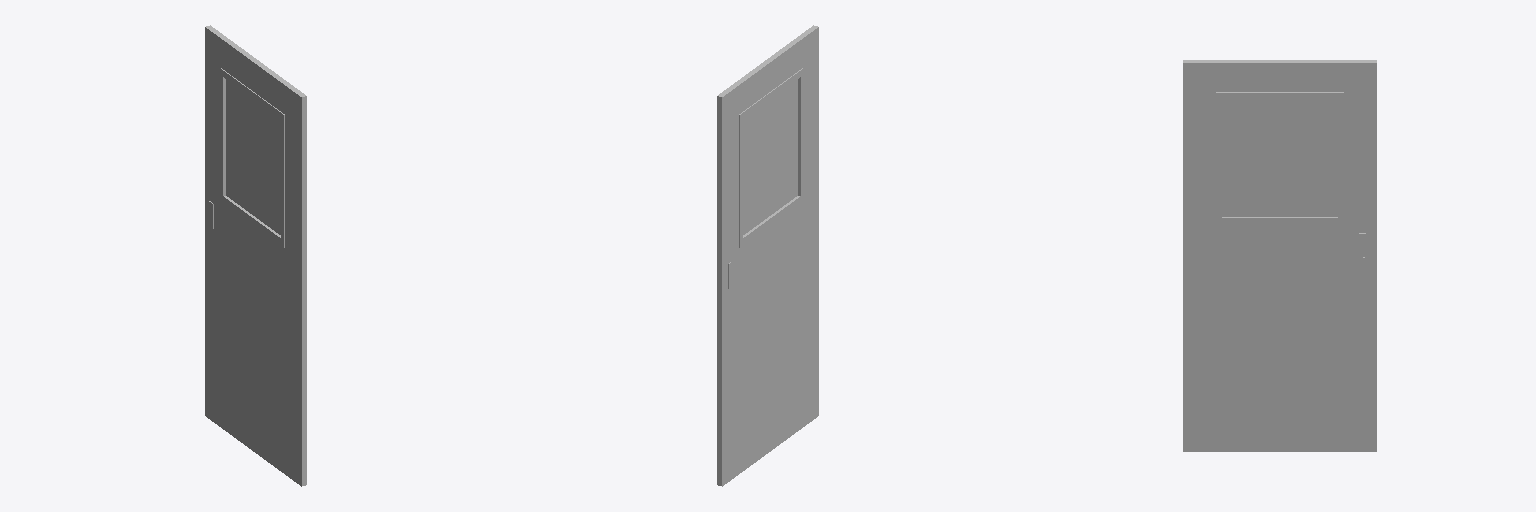
Rendered from hor2 door.obj.
3 renders of one model, left to right at view 1: azimuth 30°, elevation 25°; view 2: azimuth 150°, elevation 25°; view 3: azimuth 270°, elevation 25°, orthographic.
Visible parts, largest first — view 1: Plane.002_Plane.015; view 2: Plane.002_Plane.015; view 3: Plane.002_Plane.015.
Boxes of the visible parts, box(x1,y1,x2,y2) form: Plane.002_Plane.015: box(205, 25, 306, 486); Plane.002_Plane.015: box(717, 25, 818, 486); Plane.002_Plane.015: box(1183, 60, 1376, 451).
Size of the model in its own units: 0.04 by 2 by 0.9.